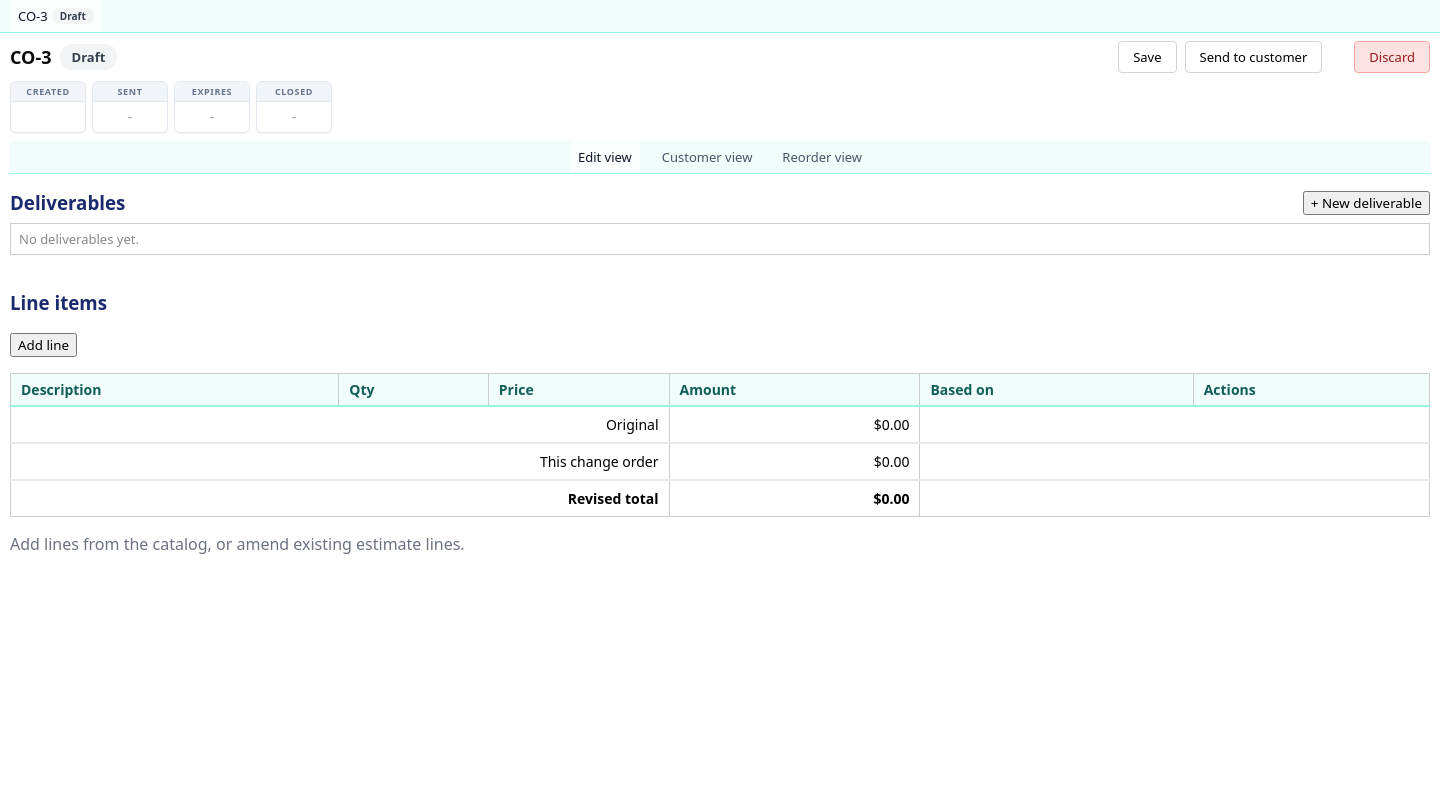
it: ChangeOrderPanel deliverables in edit mode only › hides the deliverables section outside Edit mode
This screenshot has width=1440, height=810.
expect the heading "Line items" is shown: met, box [10,290,107,315]
expect the button "+ New deliverable" is shown: met, box [1303,190,1430,214]
Click the button "Customer view": [707, 157] box [654,141,760,173]
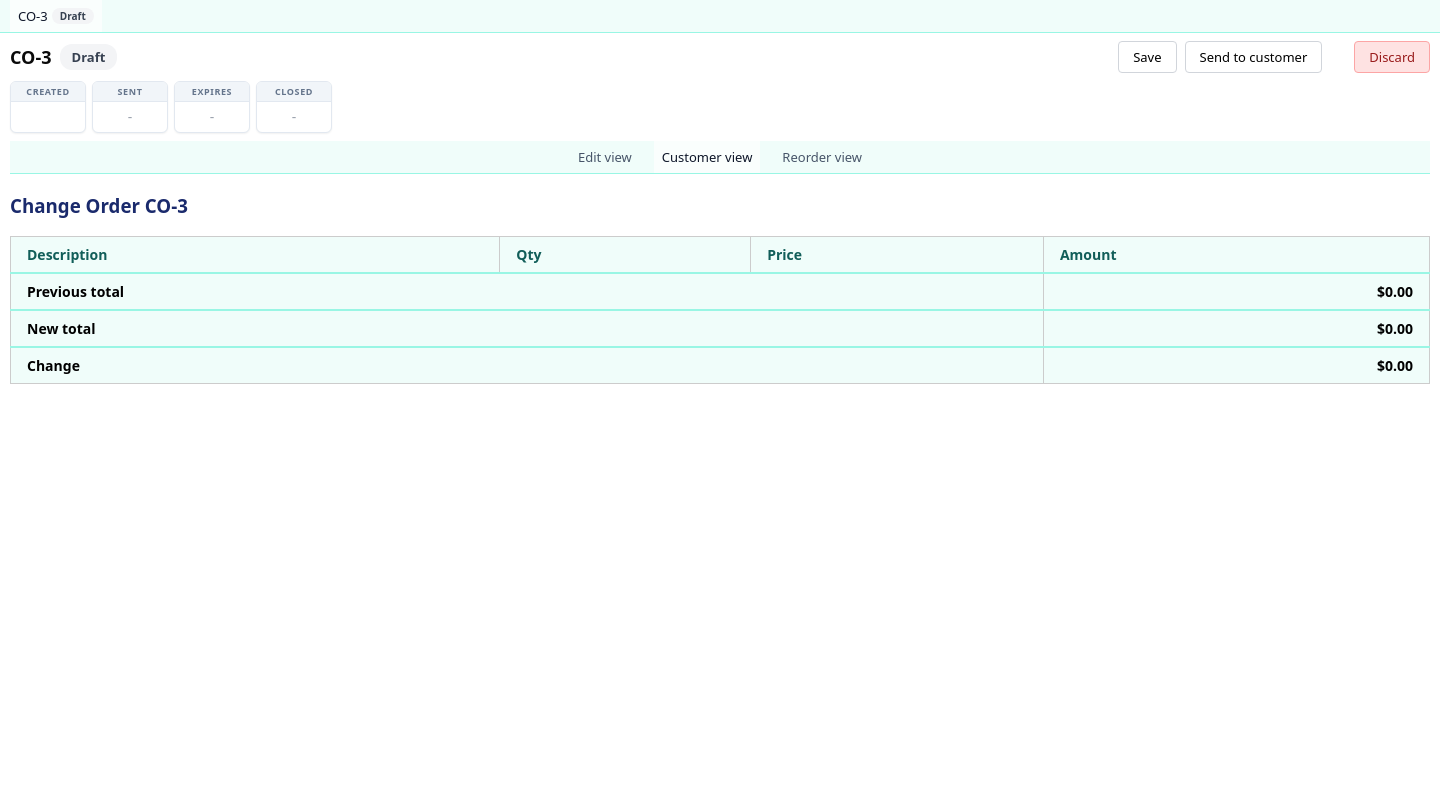
expect the heading "Change Order CO-3" is shown: met, box [10,193,188,218]
expect the button "+ New deliverable" is gone: met
